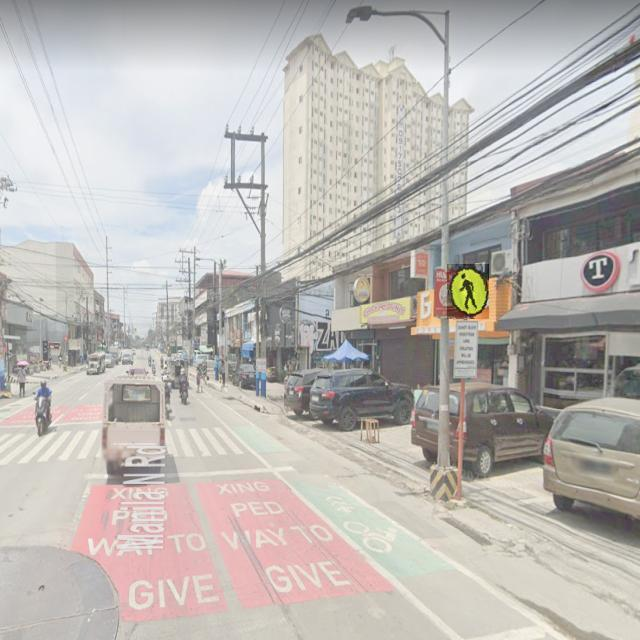pedestrian crossing: (447, 264, 489, 319)
